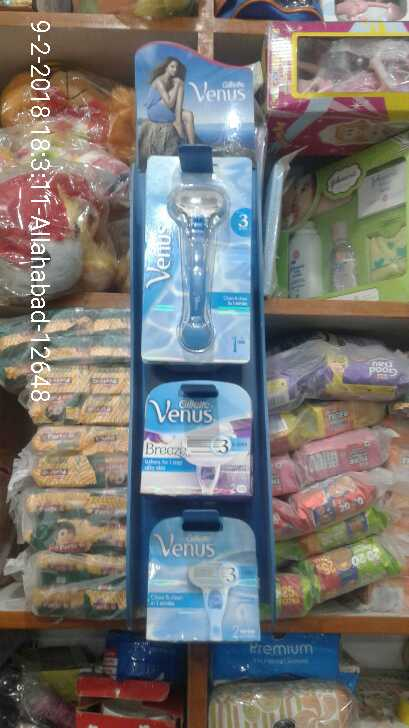venus: (140, 154, 252, 363), (147, 511, 269, 647), (143, 378, 254, 504)
